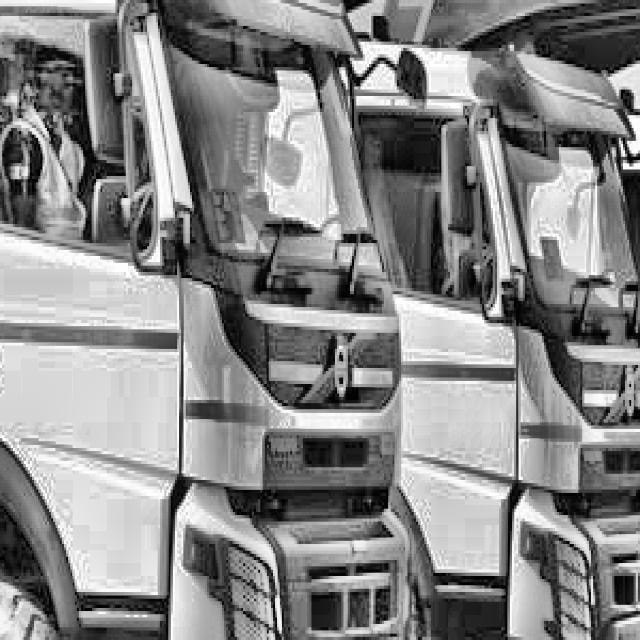dump_truck: (0, 0, 412, 640), (371, 0, 640, 640)
